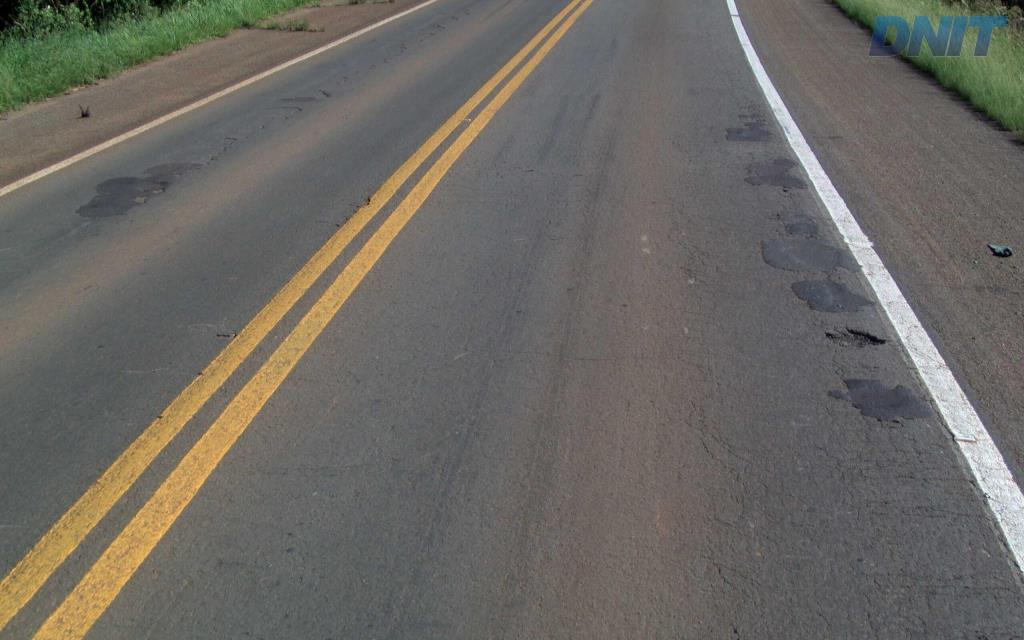pothole: (826, 330, 884, 346)
